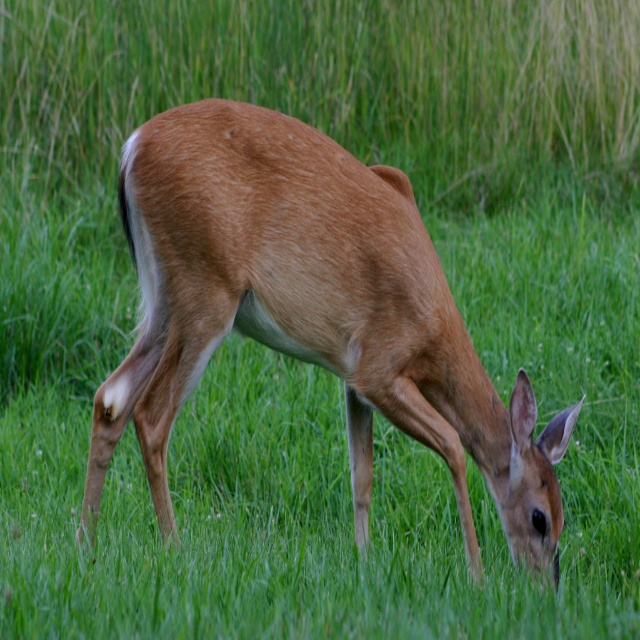Deer: (76, 99, 586, 597)
